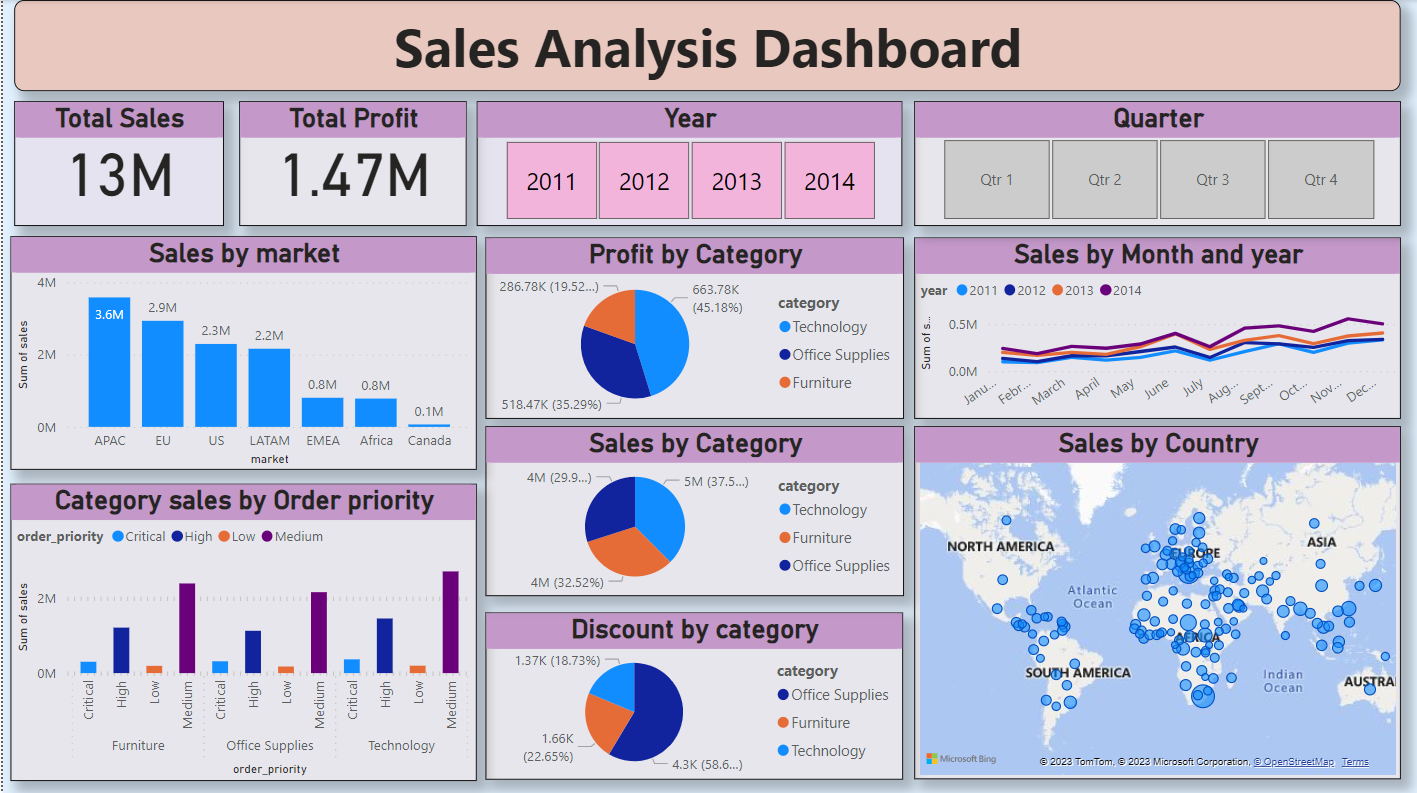

This screenshot's page, from the dashboard's own definition file:
{"tool":"powerbi","page":{"name":"Sales Analysis Dashboard","canvas":[1280,720],"ordinal":0},"visuals":[{"type":"textbox","box":[10.2,0,1253.5,82.5],"z":0},{"type":"card","title":"Total Sales","fields":{"Values":["Sum(SuperStoreOrders.sales)"]},"box":[10.5,91.8,189.4,112.7],"z":1000},{"type":"card","title":"Total Profit","fields":{"Values":["Sum(SuperStoreOrders.profit)"]},"box":[213.8,91.8,205.7,112.7],"z":2000},{"type":"slicer","title":"Year","fields":{"Values":["SuperStoreOrders.year"]},"box":[428.8,91.8,384.6,112.7],"z":3000},{"type":"columnChart","title":"Sales by market","fields":{"Category":["SuperStoreOrders.market"],"Y":["Sum(SuperStoreOrders.sales)"]},"box":[7,213.8,421.8,211.5],"z":4000},{"type":"columnChart","title":"Category sales by Order priority","fields":{"Category":["SuperStoreOrders.category","SuperStoreOrders.order_priority"],"Y":["Sum(SuperStoreOrders.sales)"],"Series":["SuperStoreOrders.order_priority"]},"box":[7,436.9,421.8,268.4],"z":5000},{"type":"pieChart","title":"Discount by category","fields":{"Category":["SuperStoreOrders.category"],"Y":["Sum(SuperStoreOrders.discount)"]},"box":[435.7,554.3,377.6,151.1],"z":6000},{"type":"pieChart","title":"Profit by Category","fields":{"Category":["SuperStoreOrders.category"],"Y":["Sum(SuperStoreOrders.profit)"]},"box":[435.7,215,378.8,163.8],"z":7000},{"type":"pieChart","title":"Sales by Category","fields":{"Category":["SuperStoreOrders.category"],"Y":["Sum(SuperStoreOrders.sales)"]},"box":[435.7,385.8,378.8,153.4],"z":8000},{"type":"lineChart","title":"Sales by Month and year","fields":{"Category":["SuperStoreOrders.order_date.Variation.Date Hierarchy.Month"],"Y":["Sum(SuperStoreOrders.sales)"],"Series":["SuperStoreOrders.year"]},"box":[823.8,215,440.4,163.8],"z":9000},{"type":"slicer","title":"Quarter","fields":{"Values":["SuperStoreOrders.order_date.Variation.Date Hierarchy.Quarter"]},"box":[823.8,91.8,440.4,112.7],"z":9001},{"type":"map","title":"Sales by Country","fields":{"Category":["SuperStoreOrders.country"],"Size":["Avg(SuperStoreOrders.sales)"]},"box":[823.8,385.8,440.4,319.5],"z":9002}]}

Visuals, with their boxes in screenshot pixels (x1, y1, x2, y2), scaled from the page's 1280x720 canvas onto the 1417x793 screenshot:
textbox: [left=11, top=0, right=1399, bottom=91]
"Total Sales" card: [left=12, top=101, right=221, bottom=225]
"Total Profit" card: [left=237, top=101, right=464, bottom=225]
"Year" slicer: [left=475, top=101, right=900, bottom=225]
"Sales by market" columnChart: [left=8, top=235, right=475, bottom=468]
"Category sales by Order priority" columnChart: [left=8, top=481, right=475, bottom=777]
"Discount by category" pieChart: [left=482, top=610, right=900, bottom=777]
"Profit by Category" pieChart: [left=482, top=237, right=902, bottom=417]
"Sales by Category" pieChart: [left=482, top=425, right=902, bottom=594]
"Sales by Month and year" lineChart: [left=912, top=237, right=1400, bottom=417]
"Quarter" slicer: [left=912, top=101, right=1400, bottom=225]
"Sales by Country" map: [left=912, top=425, right=1400, bottom=777]
